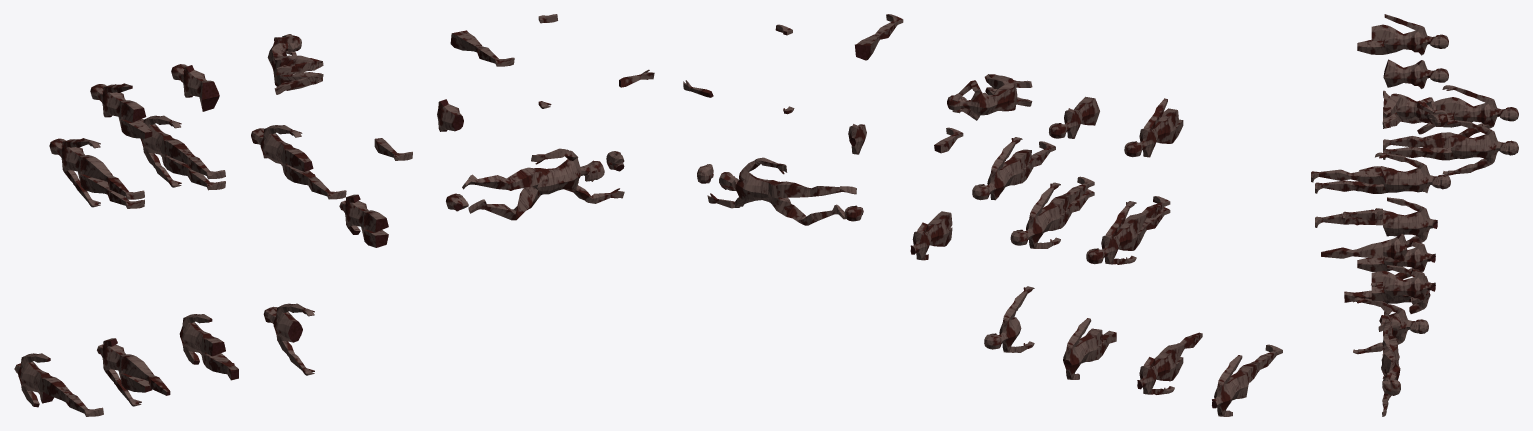
The model's file is DeadPeople.fbx.
The picture shows the model from 3 angles, left to right: view 1: azimuth 30°, elevation 25°; view 2: azimuth 150°, elevation 25°; view 3: azimuth 270°, elevation 25°; orthographic projection. The views are drawn at different scales.
Visible parts, largest first — view 1: DeadBody, Body.006, Body.005, Body_Cut_1, Body_Cut_6, DeadPersonCry, Body_Cut_4, Body_Cut_3, Body_Cut_5, Body_Cut_8, Body_Cut_2, Body_Cut_7 (+2 smaller); view 2: DeadBody, Body.005, Body.006, DeadPersonCry, Body_Cut_1, Body_Cut_4, Body_Cut_6, Body_Cut_5, Body_Cut_3, Body_Cut_8, Body_Cut_2, Body_Cut_7 (+1 smaller); view 3: Body.005, Body_Cut_1, Body.006, Body_Cut_5, Body_Cut_4, Body_Cut_6, DeadPersonCry, Body_Cut_8, Body_Cut_7, DeadBody, Body_Cut_2, Leg_Full_Female (+4 smaller).
Part boxes in pixels (box(x1,y1,x2,y2)): DeadBody: box(462, 148, 624, 220); Body.006: box(49, 138, 144, 208); Body.005: box(140, 115, 225, 190); Body_Cut_1: box(251, 125, 346, 199); Body_Cut_6: box(97, 338, 170, 406); DeadPersonCry: box(267, 34, 323, 94); Body_Cut_4: box(14, 353, 103, 416); Body_Cut_3: box(179, 314, 238, 380); Body_Cut_5: box(90, 83, 152, 138); Body_Cut_8: box(339, 194, 388, 247); Body_Cut_2: box(263, 303, 314, 375); Body_Cut_7: box(171, 64, 219, 111); DeadBody: box(707, 157, 856, 225); Body.005: box(1010, 176, 1094, 248); Body.006: box(1086, 196, 1170, 264); DeadPersonCry: box(947, 74, 1032, 120); Body_Cut_1: box(972, 137, 1055, 200); Body_Cut_4: box(1212, 344, 1282, 416); Body_Cut_6: box(1137, 332, 1202, 394); Body_Cut_5: box(1124, 98, 1183, 157); Body_Cut_3: box(1063, 318, 1116, 379); Body_Cut_8: box(910, 211, 952, 260); Body_Cut_2: box(984, 286, 1034, 352); Body_Cut_7: box(1049, 96, 1099, 138); Body.005: box(1383, 119, 1518, 175); Body_Cut_1: box(1315, 152, 1450, 193); Body.006: box(1383, 85, 1518, 137); Body_Cut_5: box(1357, 14, 1448, 55); Body_Cut_4: box(1315, 197, 1437, 247); Body_Cut_6: box(1321, 240, 1435, 279); DeadPersonCry: box(1382, 90, 1447, 134); Body_Cut_8: box(1371, 269, 1435, 304); Body_Cut_7: box(1383, 59, 1448, 88); DeadBody: box(1381, 305, 1400, 416); Body_Cut_2: box(1353, 297, 1428, 354); Leg_Full_Female: box(1311, 167, 1386, 184).
Bounding box in the file's own units: 755 × 374 × 260.
